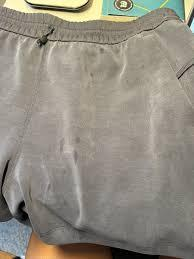mustard: (56, 136, 69, 153), (72, 151, 83, 166), (85, 67, 97, 80), (94, 46, 105, 53), (77, 132, 85, 141)
